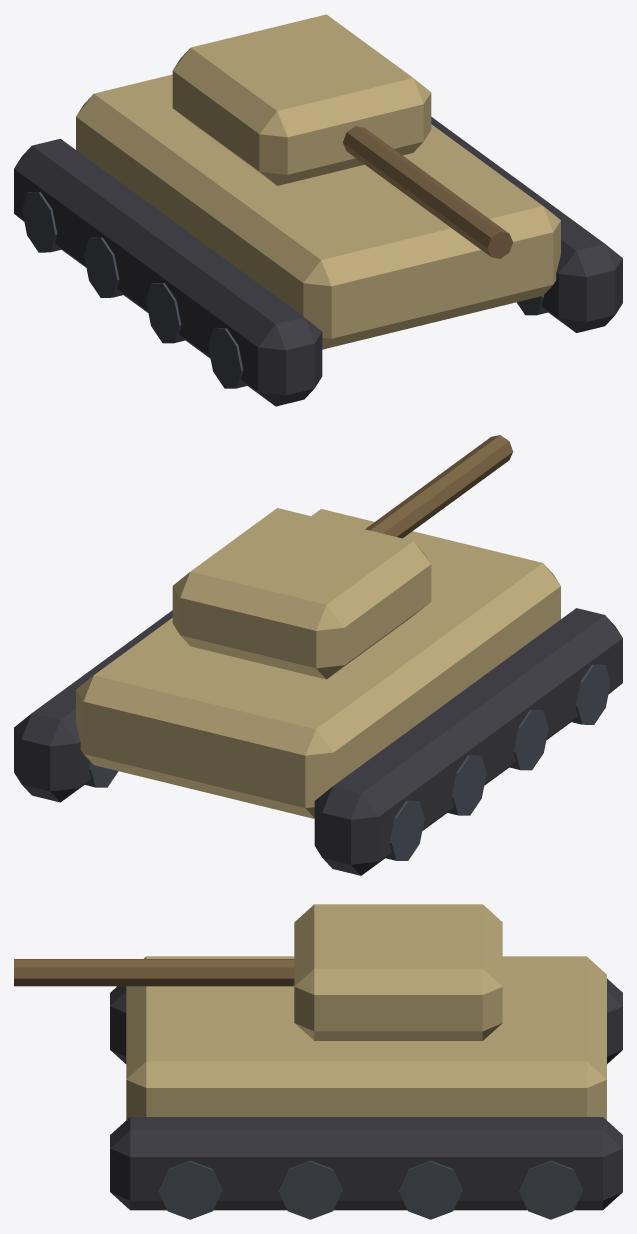
Rendered from LightTank.fbx.
The picture shows the model from 3 angles, top to bottom: view 1: azimuth 30°, elevation 25°; view 2: azimuth 150°, elevation 25°; view 3: azimuth 270°, elevation 25°; orthographic projection. The views are drawn at different scales.
Visible parts, largest first — view 1: LightTank, LightTank_Turret; view 2: LightTank, LightTank_Turret; view 3: LightTank, LightTank_Turret.
Boxes of the visible parts, x1,y1,x2,y2 form: LightTank: (14, 74, 622, 406); LightTank_Turret: (172, 14, 513, 258); LightTank: (14, 509, 622, 875); LightTank_Turret: (172, 435, 513, 679); LightTank: (110, 956, 622, 1219); LightTank_Turret: (14, 904, 502, 1040).
Bounding box in the file's own units: 5.16 × 2.7 × 7.6.
1 material, 1 textured.
